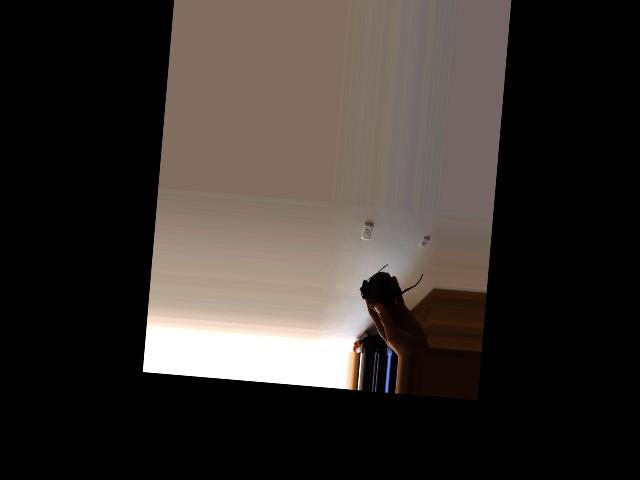beet: (358, 261, 423, 315)
